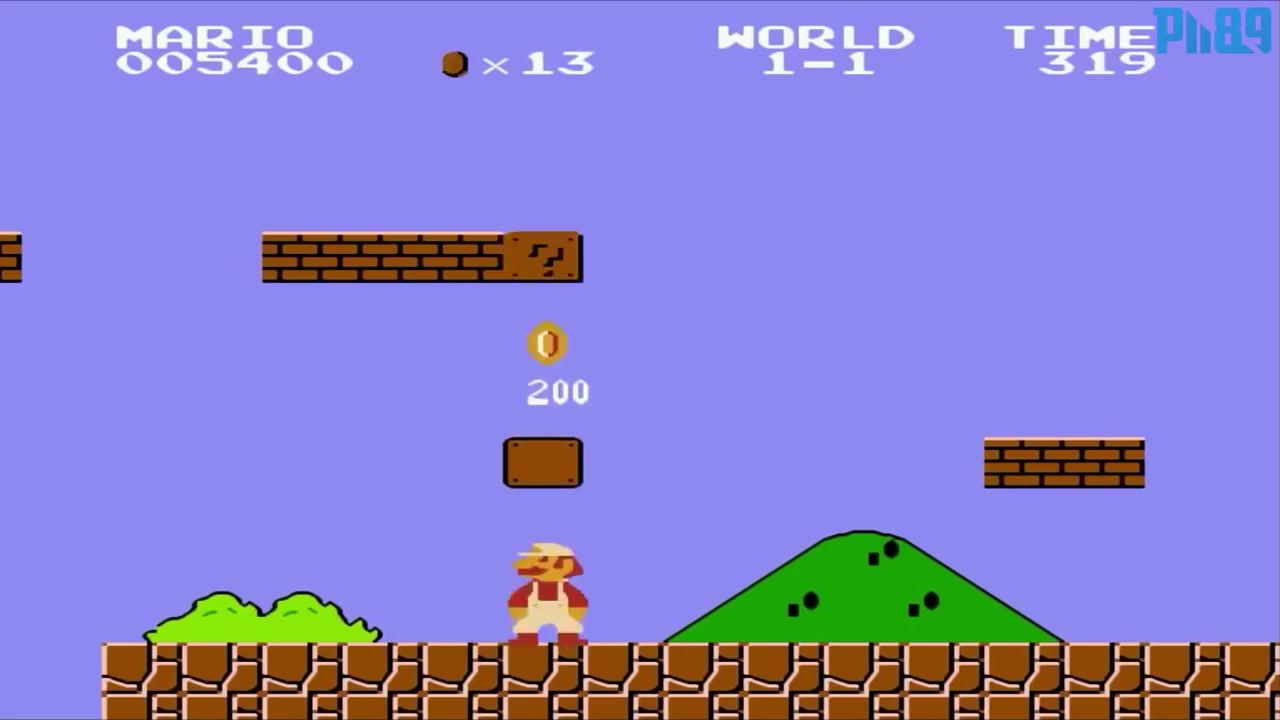mario: (497, 541, 592, 641)
